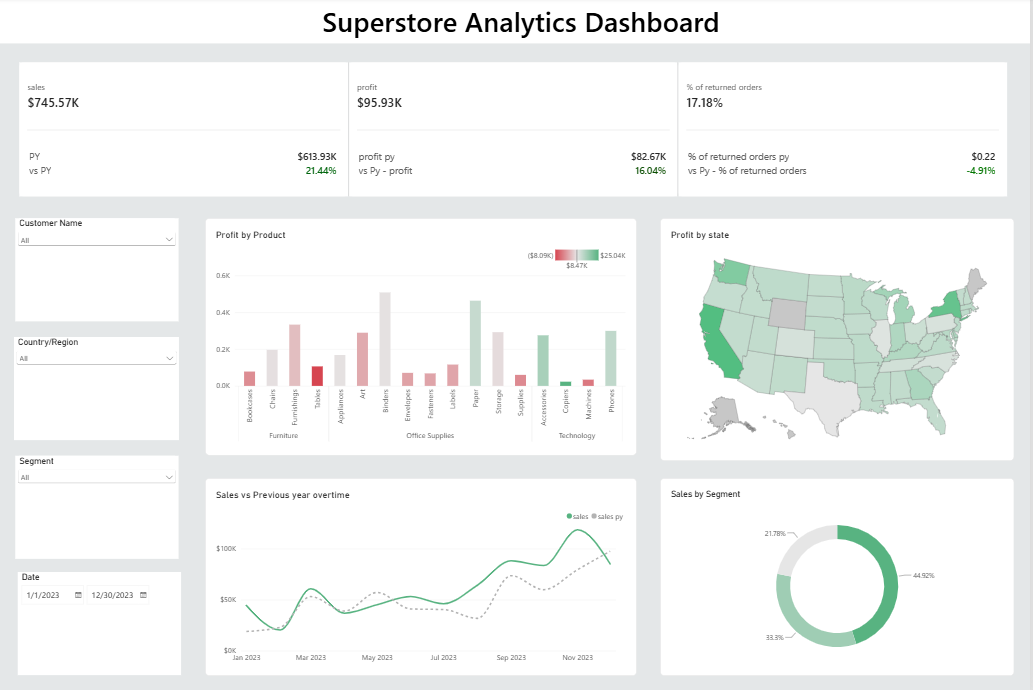

The dashboard page shown, as its layout file describes it:
{"tool":"powerbi","page":{"name":"Page 1","canvas":[2000,1350],"ordinal":0},"visuals":[{"type":"cardVisual","fields":{"Data":["key measures.sales","key measures.profit","key measures.% of returned orders"]},"box":[20,120,1956.7,280],"z":0},{"type":"shape","box":[0,0,2000,90],"z":1000},{"type":"lineChart","title":"Sales vs Previous year overtime ","fields":{"Category":["Date table.start of month"],"Y":["key measures.sales","key measures.sales py"]},"box":[400,933.3,836.7,383.3],"z":2000,"group":"g1"},{"type":"columnChart","title":"Profit by Product","fields":{"Category":["Orders.Category","Orders.Sub-Category"],"Y":["CountNonNull(Orders.Profit)"]},"box":[400,430,836.7,460],"z":3000,"group":"g1"},{"type":"shapeMap","title":"Profit by state","fields":{"Category":["Orders.State/Province"],"Value":["key measures.profit"]},"box":[1283.3,430,686.7,470],"z":4000,"group":"g1"},{"type":"donutChart","title":"Sales by Segment","fields":{"Category":["Orders.Segment"],"Y":["key measures.sales"]},"box":[1283.3,933.3,686.7,383.3],"z":5000,"group":"g1"},{"type":"slicer","fields":{"Values":["Orders.Customer Name"]},"box":[33.3,430,316.7,200],"z":5500,"group":"g1"},{"type":"slicer","fields":{"Values":["Orders.Segment"]},"box":[33.3,890,316.7,200],"z":6000,"group":"g1"},{"type":"slicer","fields":{"Values":["Date table.Date"]},"box":[36.7,1116.7,316.7,200],"z":6500,"group":"g1"},{"type":"slicer","fields":{"Values":["Orders.Country/Region"]},"box":[30,660,320,200],"z":7000,"group":"g1"},{"type":"group","id":"g1","title":"Group 1","box":[30,430,1940,886.7],"z":7001}]}

Visuals, with their boxes in screenshot pixels (x1, y1, x2, y2), scaled from the page's 2000x1350 canvas onto the 1033x690 screenshot:
cardVisual - key measures.sales x key measures.profit: 10, 61, 1021, 204
shape: 0, 0, 1032, 46
"Sales vs Previous year overtime " lineChart: 207, 477, 639, 673
"Profit by Product" columnChart: 207, 220, 639, 455
"Profit by state" shapeMap: 663, 220, 1018, 460
"Sales by Segment" donutChart: 663, 477, 1018, 673
slicer - Orders.Customer Name: 17, 220, 181, 322
slicer - Orders.Segment: 17, 455, 181, 557
slicer - Date table.Date: 19, 571, 183, 673
slicer - Orders.Country/Region: 15, 337, 181, 440
"Group 1" group: 15, 220, 1018, 673
